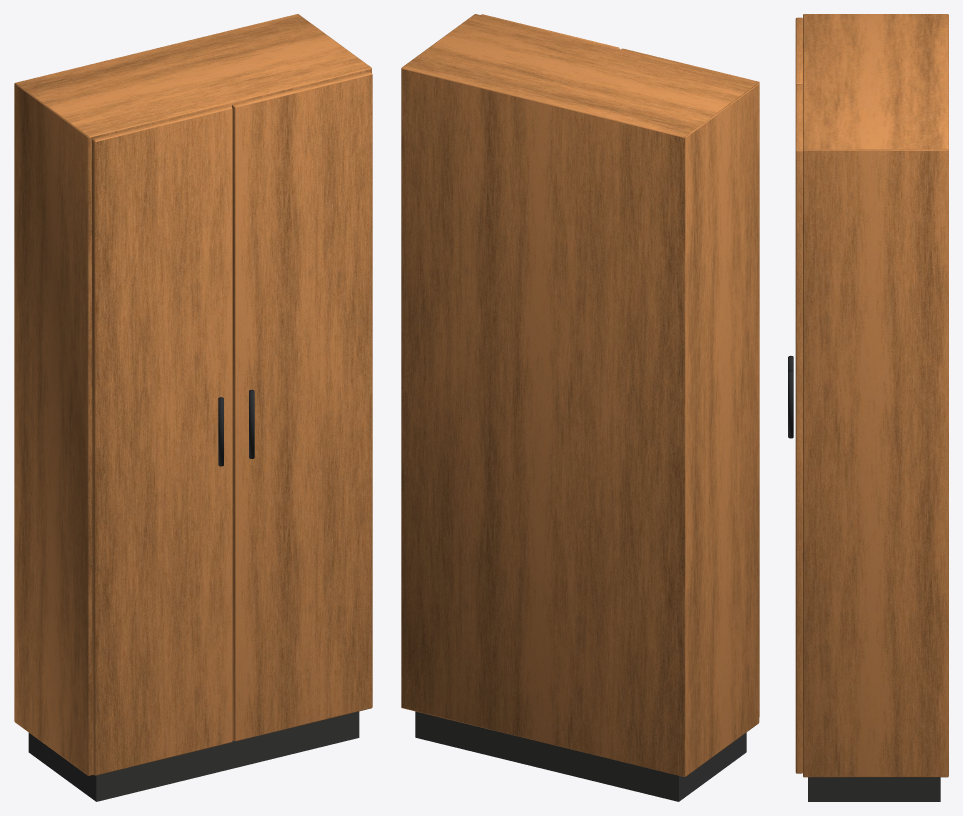
Rendered from storage.storage-cabinet-tall.glb.
The picture shows the model from 3 angles, left to right: view 1: azimuth 30°, elevation 25°; view 2: azimuth 150°, elevation 25°; view 3: azimuth 270°, elevation 25°; orthographic projection.
Parts seen in each view (by area): view 1: storage.storage-cabinet-tall.001; view 2: storage.storage-cabinet-tall.001; view 3: storage.storage-cabinet-tall.001.
Boxes of the visible parts, <box> form: storage.storage-cabinet-tall.001: <box>14,14,372,801</box>; storage.storage-cabinet-tall.001: <box>401,14,759,801</box>; storage.storage-cabinet-tall.001: <box>788,14,948,801</box>.
Bounding box in the file's own units: 0.8 × 1.8 × 0.399.
Materials: 3 (1 with a texture image).
